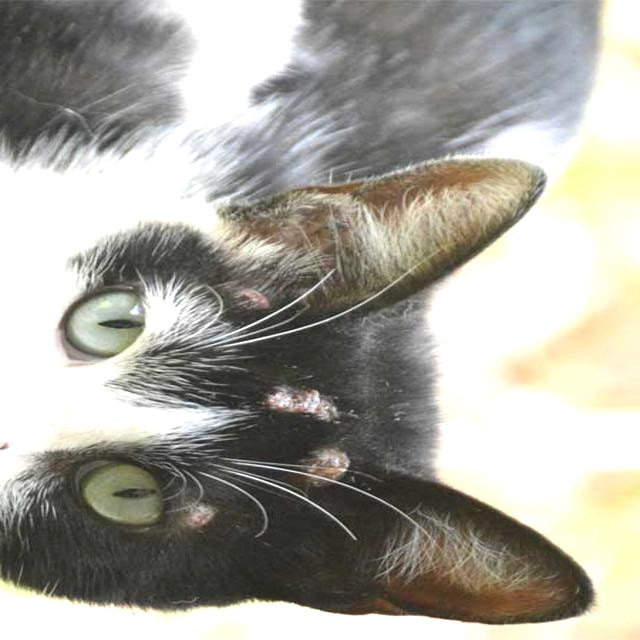lump_and_bump: (265, 386, 326, 417), (308, 456, 345, 483), (185, 505, 216, 531), (236, 289, 266, 309)
